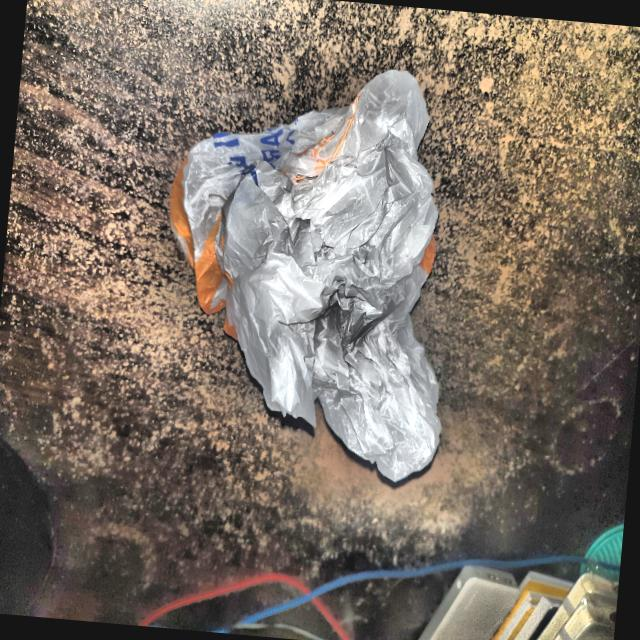plastic bag: (138, 51, 482, 487)
